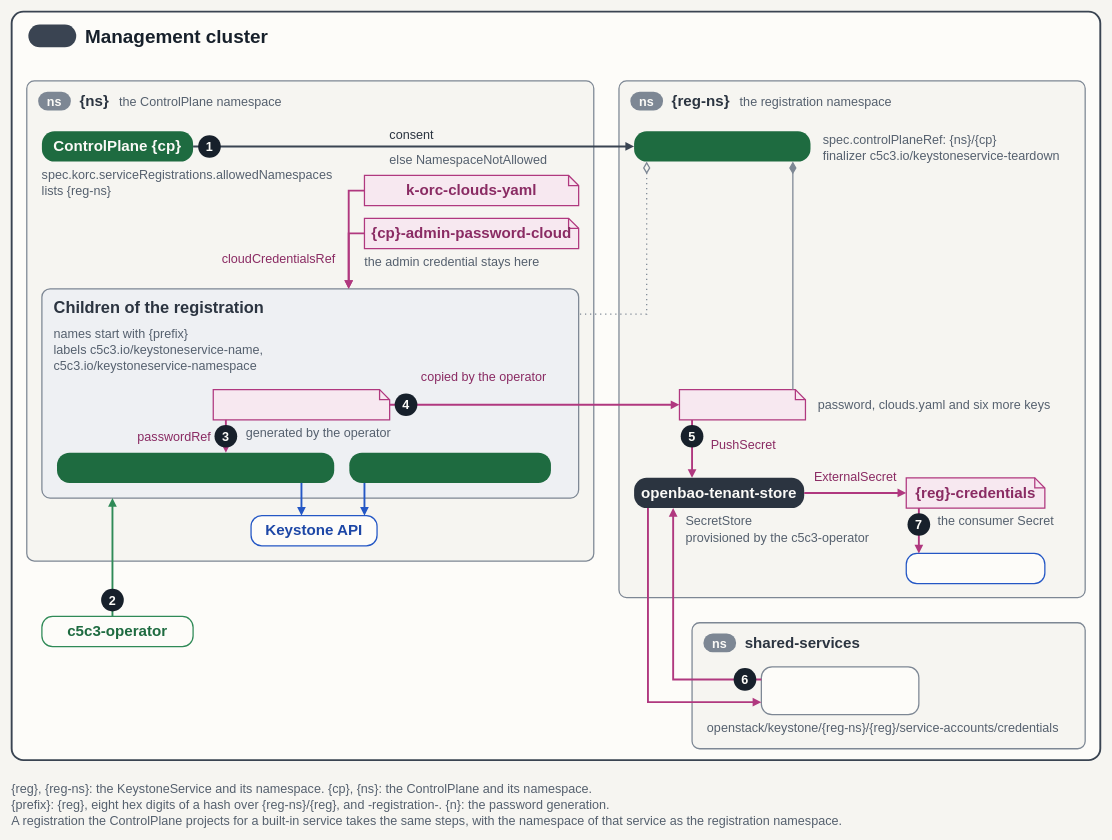
Some shapes in this 1112 by 840 pixel diagram are drawn without their labels. Here are the shapes that lost their labels. From the top down, the centre of each, then its label:
At point 52,35: "K8s".
At point 722,146: "KeystoneService {reg}".
At point 301,404: "{prefix}password-v{n}".
At point 742,404: "{prefix}source".
At point 195,467: "User, Project, Role, RoleAssignment".
At point 450,467: "Service, Region, Endpoint".
At point 975,568: "service pods".
At point 839,690: "OpenBao KV engine".
